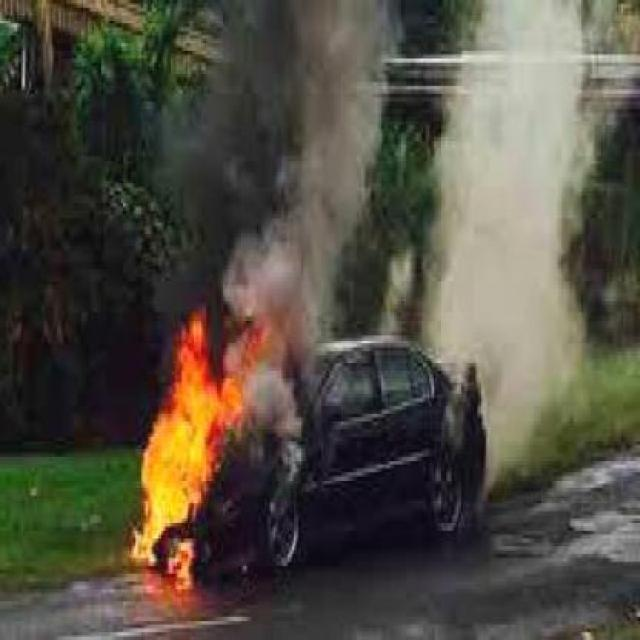Fire: (121, 269, 292, 582)
Smoke: (412, 0, 639, 515), (213, 0, 410, 317), (370, 242, 416, 371)
